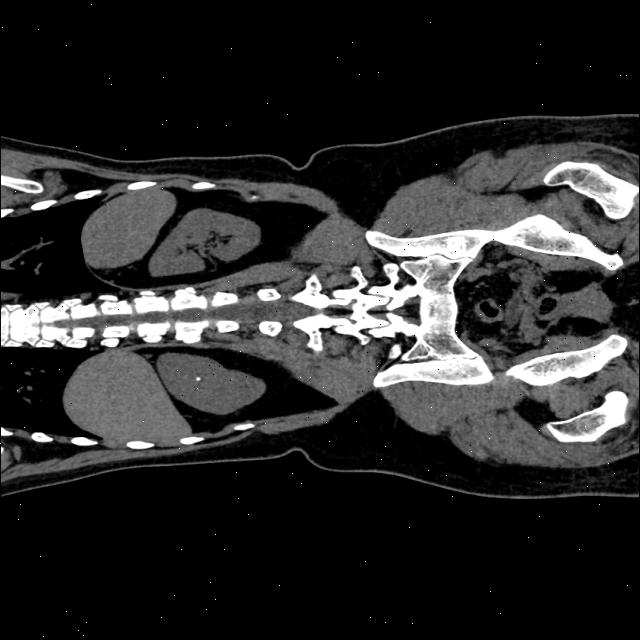kidneystone: (196, 375, 201, 380)
